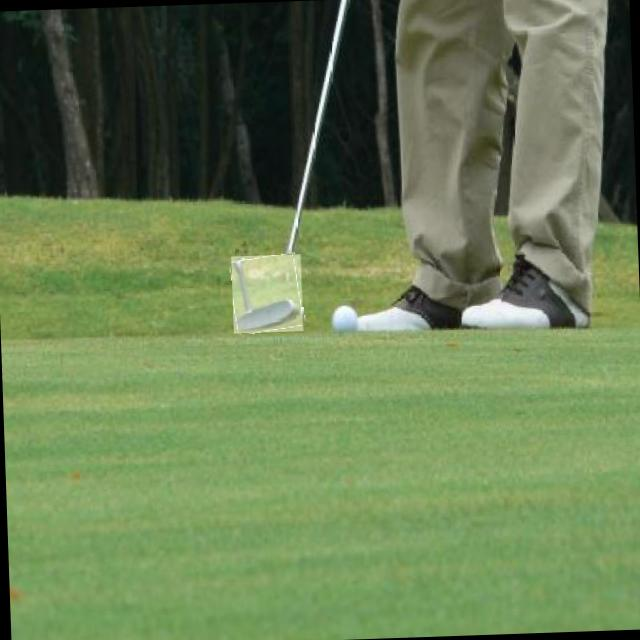club head: (231, 254, 304, 333)
